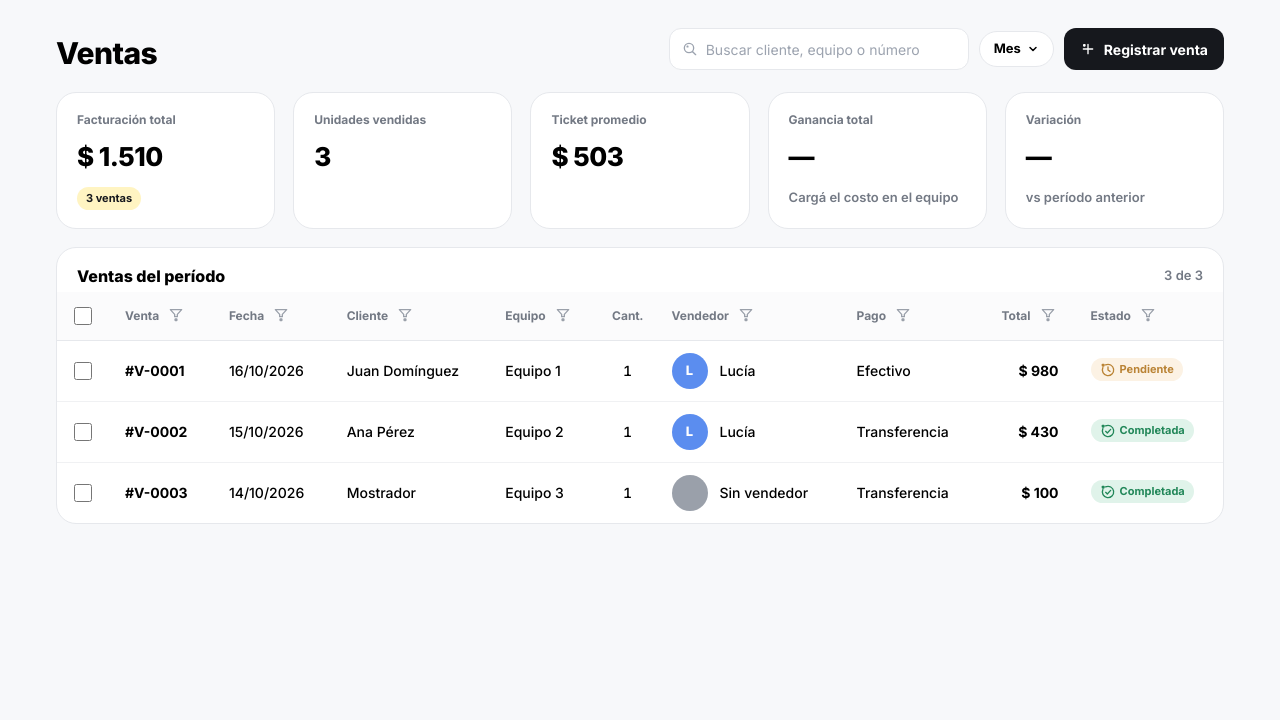
Test: Seller column filter › filters with the vendedor checkboxes and clears the total
The width and height of the screenshot is (1280, 720).
Click the button named "Filtrar vendedor": (746, 314) [735,304,757,326]
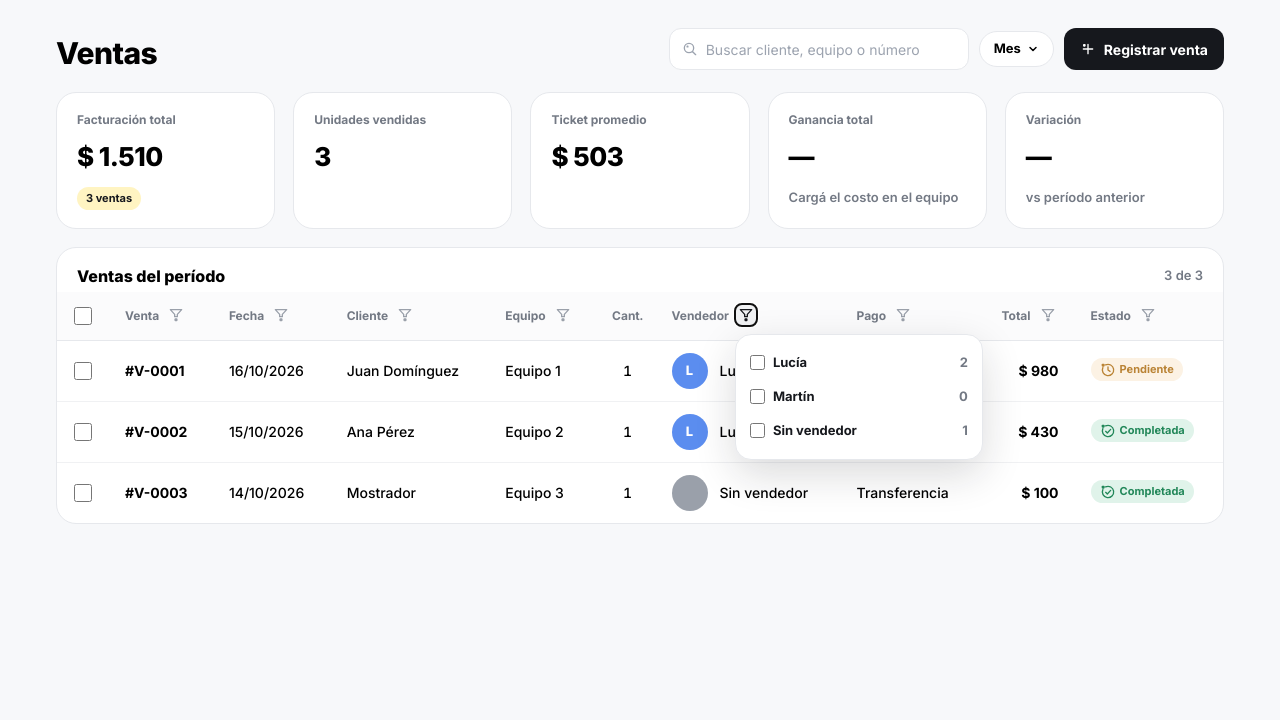
Expected: the checkbox labelled "Lucía" is not checked
Expected: the checkbox labelled "Sin vendedor" is shown, [750,423,765,438]
Expected: the checkbox labelled "Martín" is shown, [750,389,765,404]
Click the checkbox labelled "Lucía": (757, 362) [750,355,765,370]
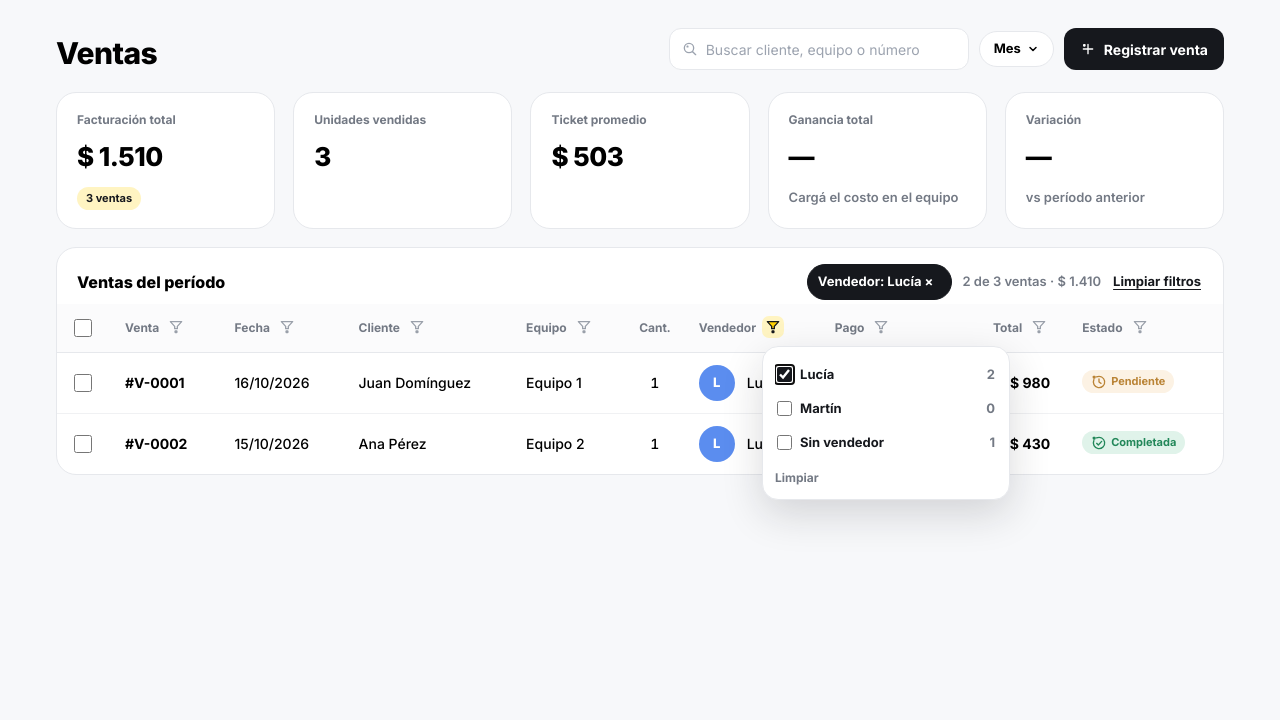
Expected: the text "Mostrador" is gone
Expected: the text with test id "sales-filter-summary" shows "2 de 3 ventas", [962,273,1101,289]
Expected: the button with test id "sales-seller-chip" shows "Vendedor: Lucía", [808,264,944,298]
Click the checkbox labelled "Sin vendedor": (784, 442) [777,435,792,450]
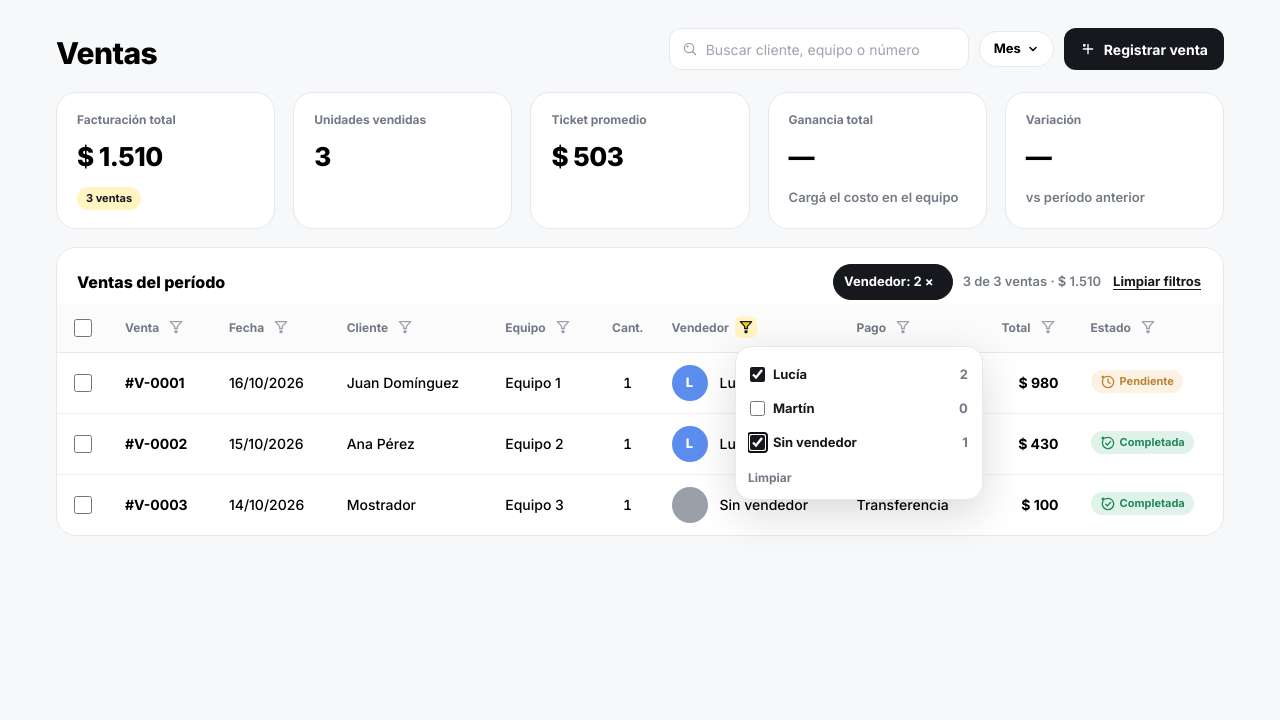
Expected: the text "Mostrador" is shown, [331,474,489,534]
Expected: the button with test id "sales-seller-chip" shows "Vendedor: 2", [834,264,944,298]
Click the button "Limpiar filtros": (1157, 282) [1111,270,1203,293]
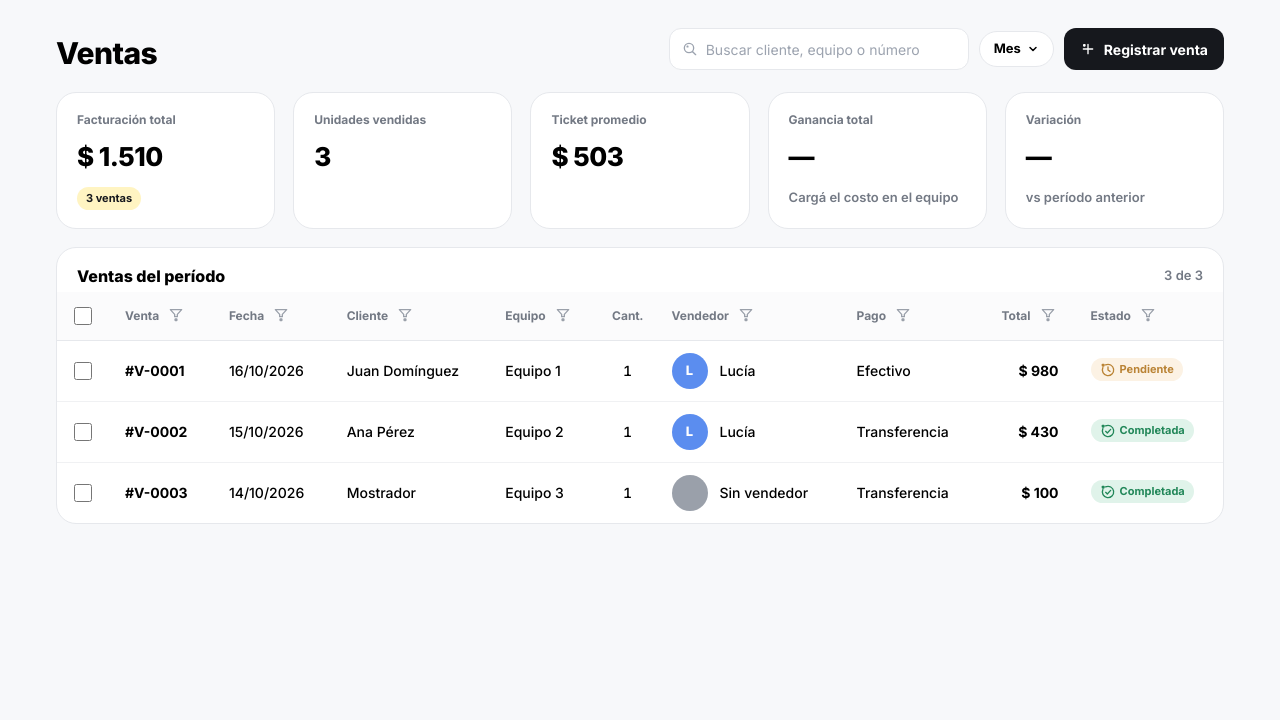
Expected: the text "Ana Pérez" is shown, [331,401,489,462]
Expected: the button with test id "sales-seller-chip" is gone
Expected: the button "Limpiar filtros" is gone
